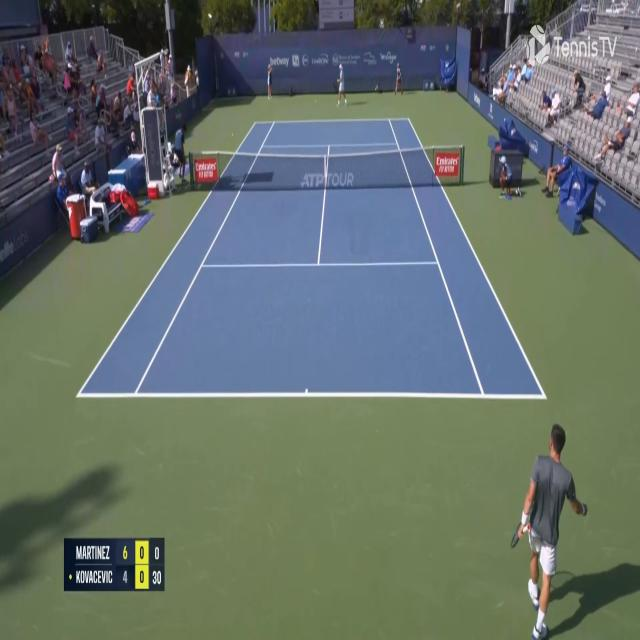tennis-player: (508, 420, 586, 638), (333, 62, 348, 107)
